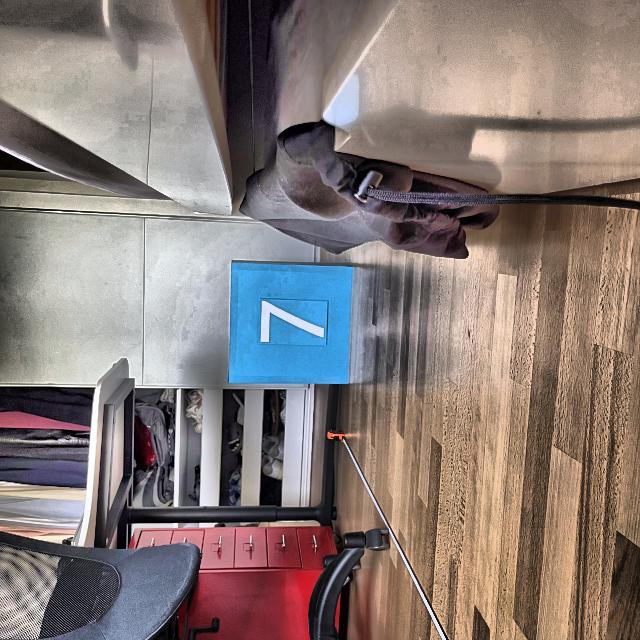blue box: (226, 257, 355, 387)
seven: (257, 300, 327, 344)
